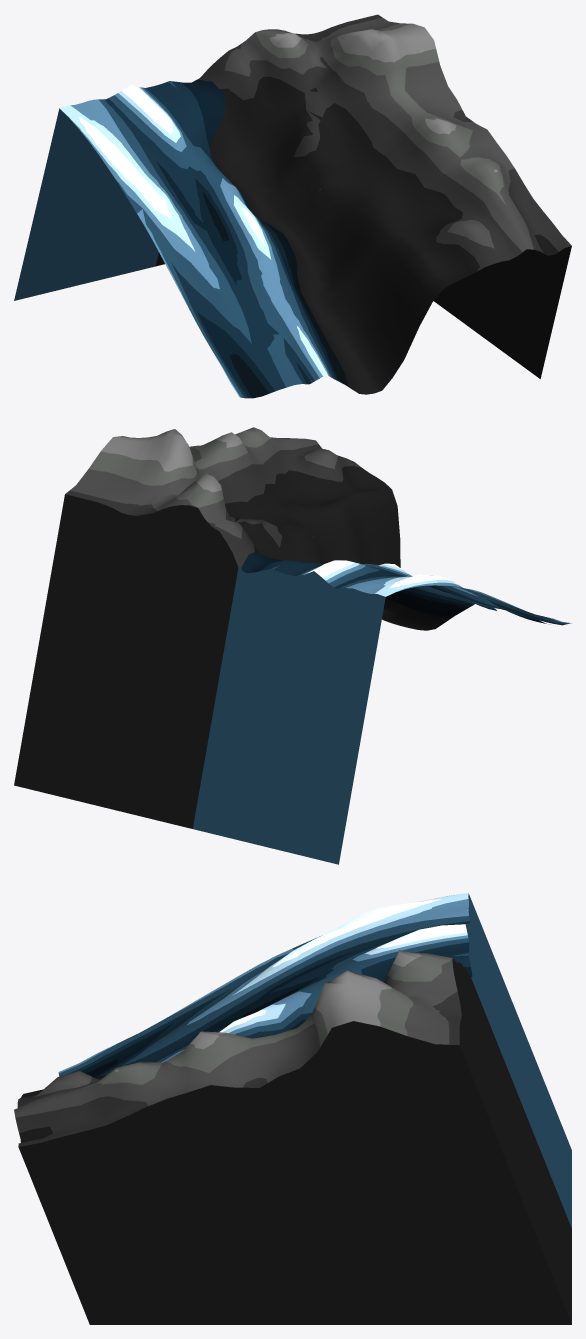
Rendered from torm_fall_tr_244.glb.
3 renders of one model, top to bottom at view 1: azimuth 30°, elevation 25°; view 2: azimuth 150°, elevation 25°; view 3: azimuth 270°, elevation 25°, orthographic. The views are drawn at different scales.
Parts seen in each view (by area): view 1: torm_fall_tr_244; view 2: torm_fall_tr_244; view 3: torm_fall_tr_244.
Part boxes in pixels (bbox=[...]): torm_fall_tr_244: bbox=[14, 14, 571, 398]; torm_fall_tr_244: bbox=[14, 427, 571, 864]; torm_fall_tr_244: bbox=[14, 893, 571, 1324].
Bounding box in the file's own units: 24 × 20.47 × 32.41.
